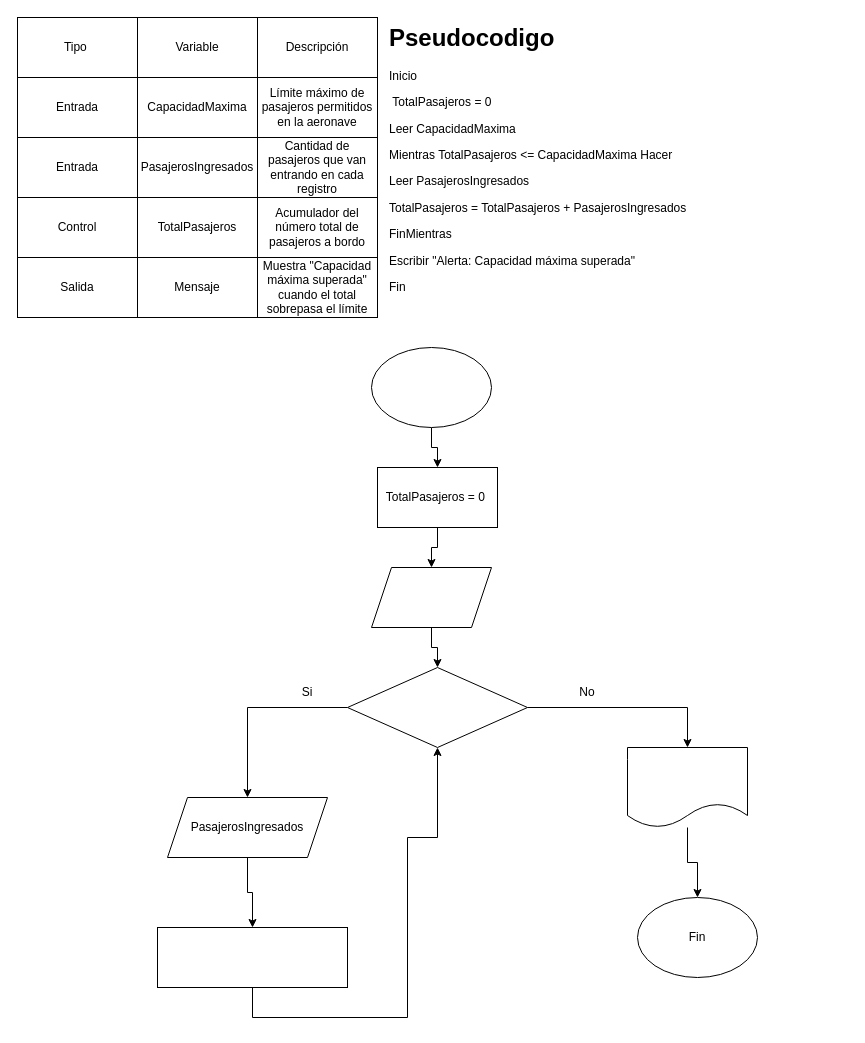
Some shapes in this 865 by 1043 pixel diagram are drawn without their labels. Each missing label, with the box of its shape:
"Alerta: Capacidad: (370, 566, 492, 628)
"Alerta: Capacidad maxima superada: (626, 746, 748, 828)
Inicio: (370, 346, 492, 428)
TotalPasajeros <= CapacidadMaxima: (346, 666, 528, 748)
TotalPasajeros = TotalPasajeros + PasajerosIngresados: (156, 926, 348, 988)
